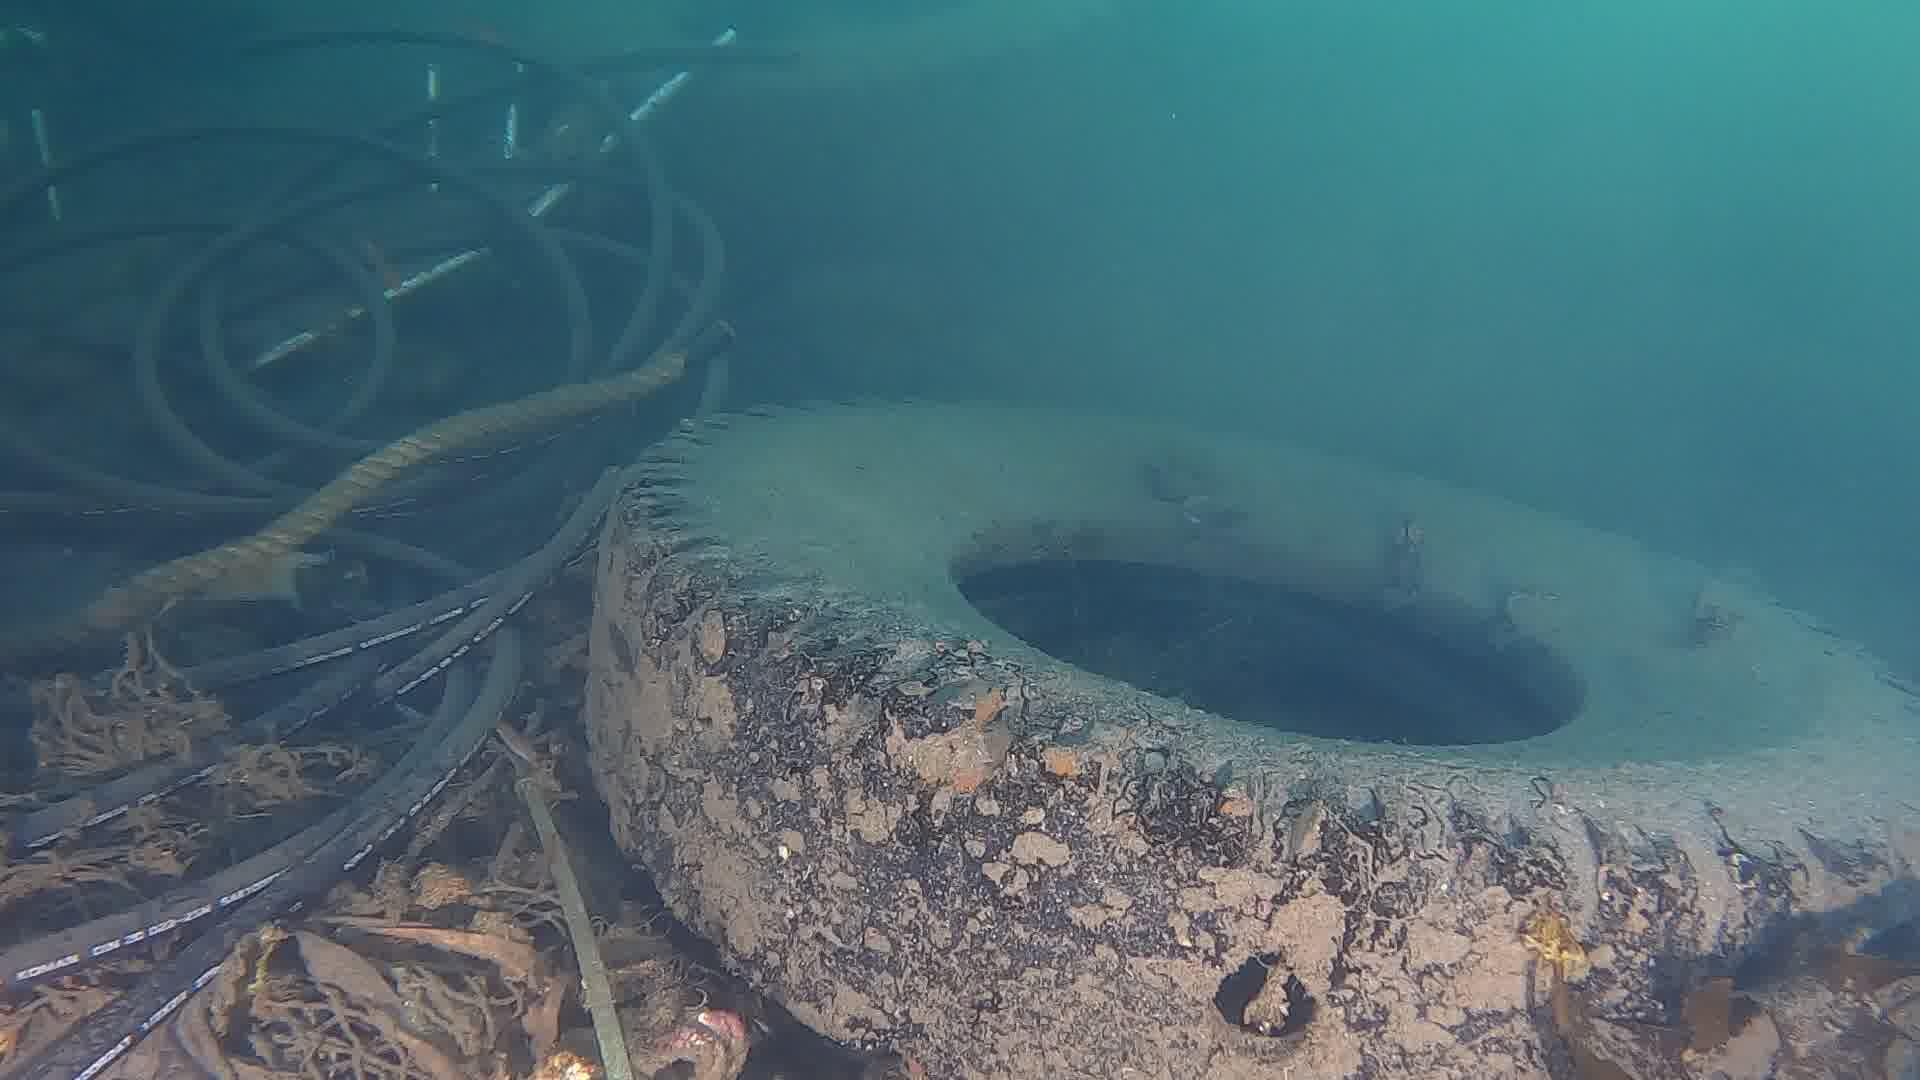rope: (0, 314, 740, 676)
tire: (574, 382, 1920, 1080)
